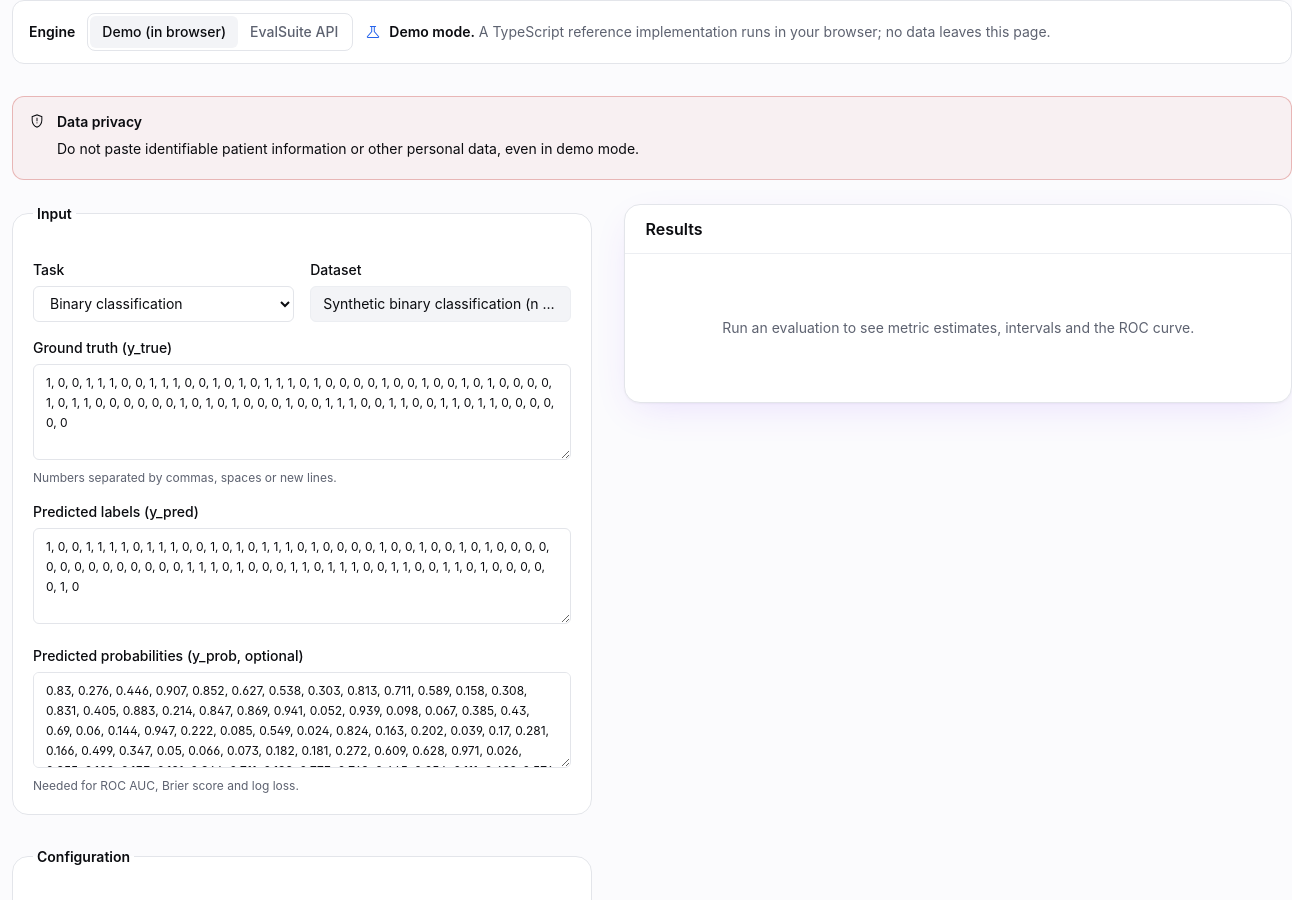
Scenario: playground on the API › runs on the API with the session token when signed in
Click the radio button labelled "EvalSuite API": (294, 32) [238, 16, 350, 48]
(page scrolled)
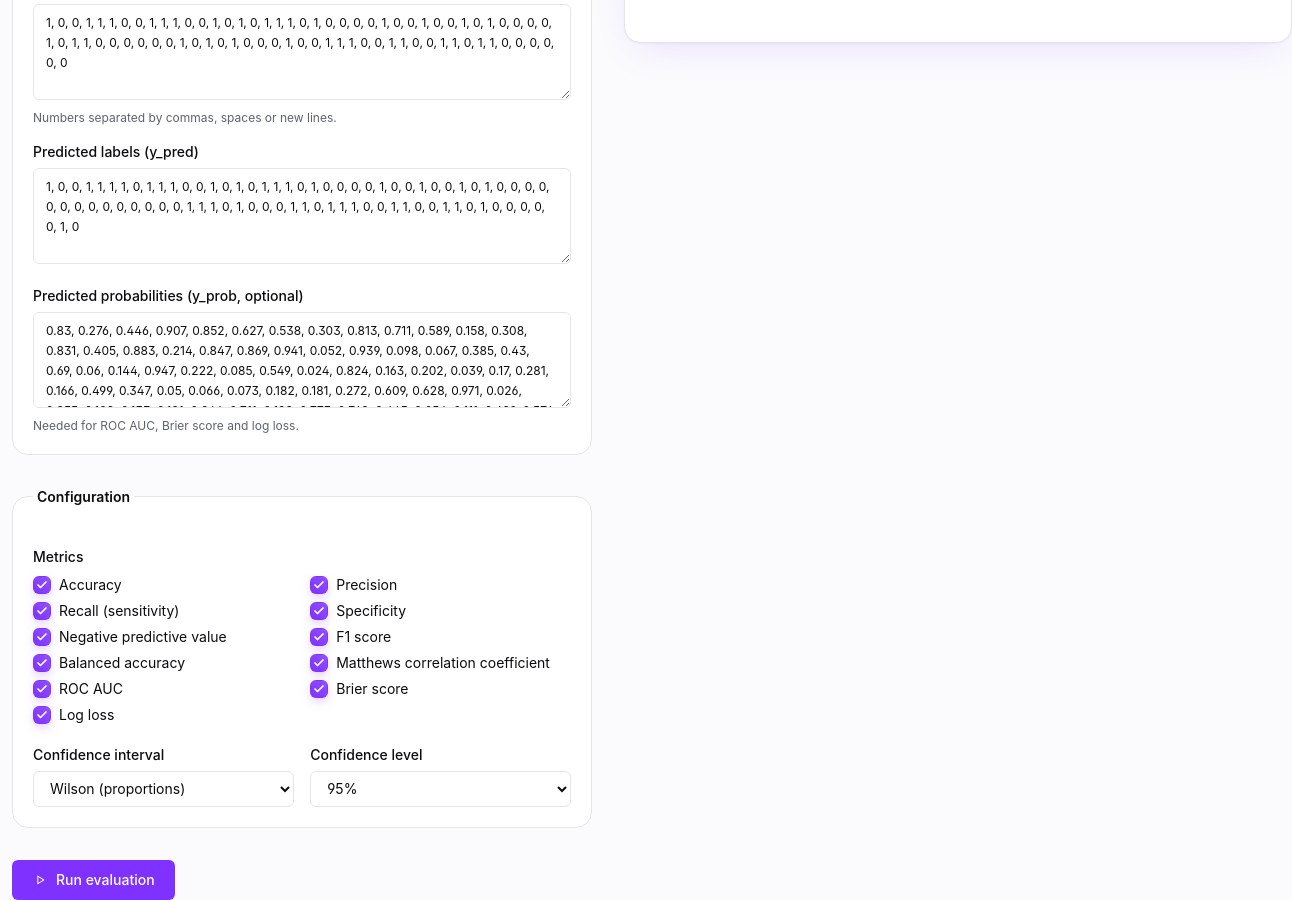
Click the button "Run evaluation": (93, 880) [12, 860, 175, 899]
(page scrolled)
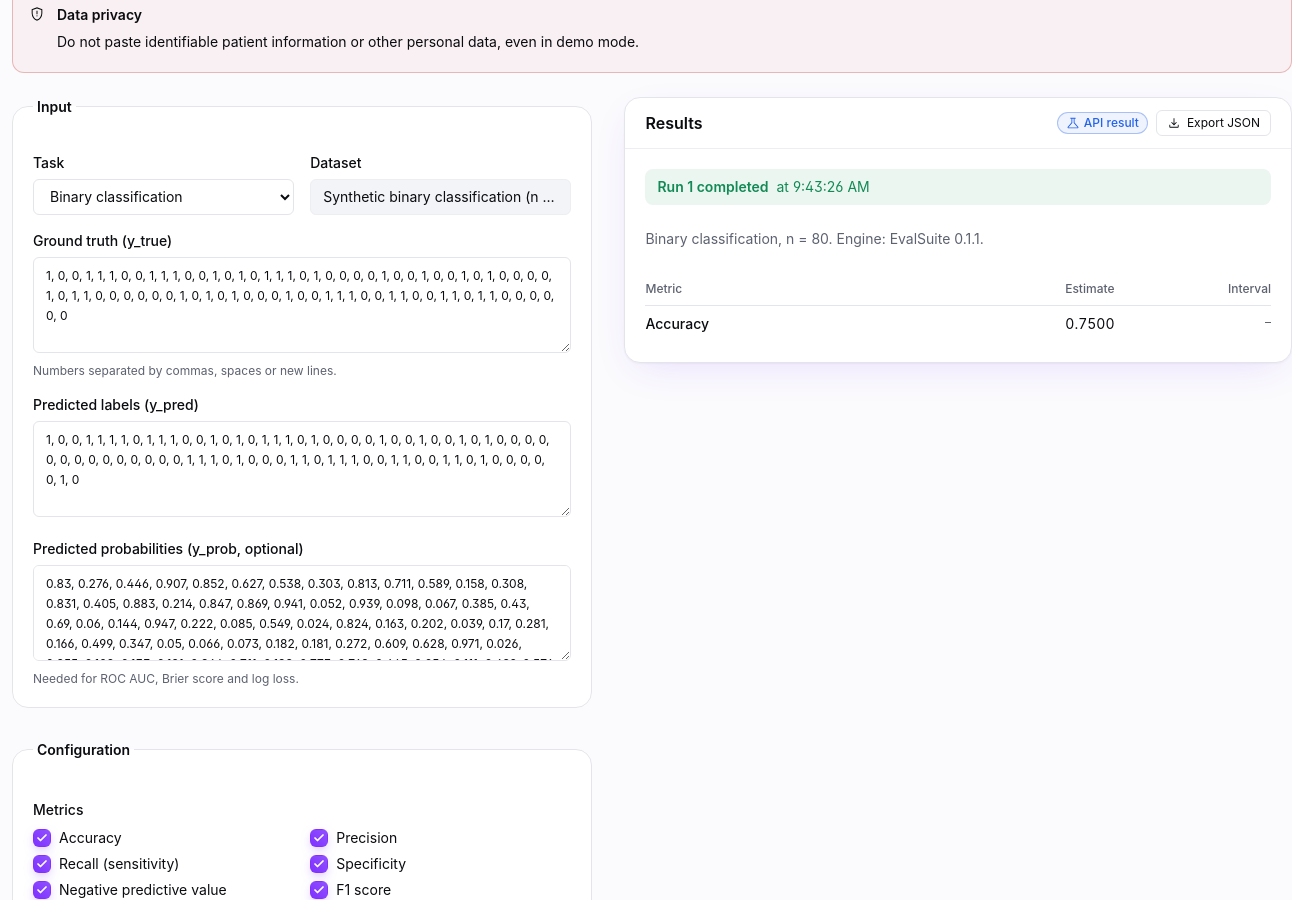
Result: the text "API result" is shown at [1057, 112, 1148, 134]
Result: the text "Binary classification, n = 80. Engine: EvalSuite 0.1.1." is shown at [646, 230, 984, 246]
